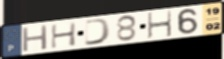6: (176, 7, 201, 36)
8: (115, 14, 139, 43)
D: (83, 18, 113, 47)
H: (146, 9, 174, 40), (21, 23, 49, 53), (50, 21, 78, 50)
